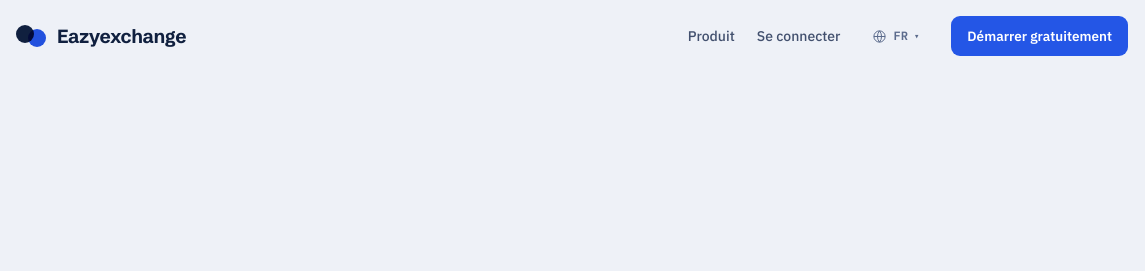
Test: LandingNav language menu — focus management › wires aria-controls to the menu id and toggles aria-expanded
Click the button with aria-label "changer de langue": (896, 36) [862,21,929,51]
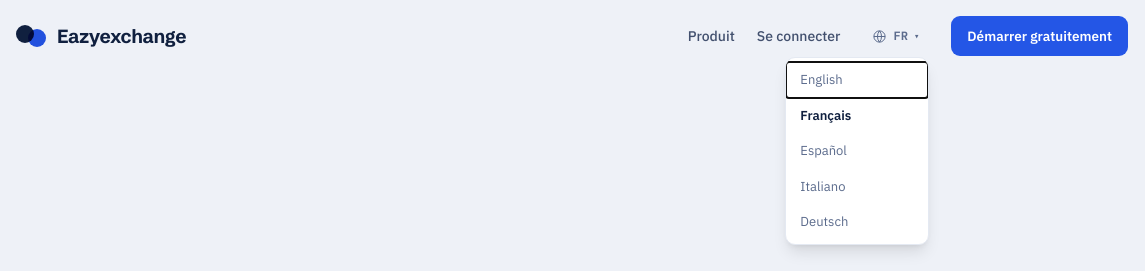
Press Escape
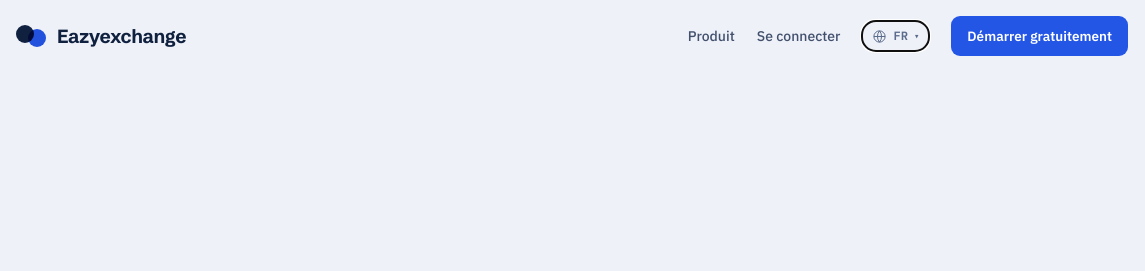
Expected: the button with aria-label "changer de langue" is collapsed, [862,21,929,51]
